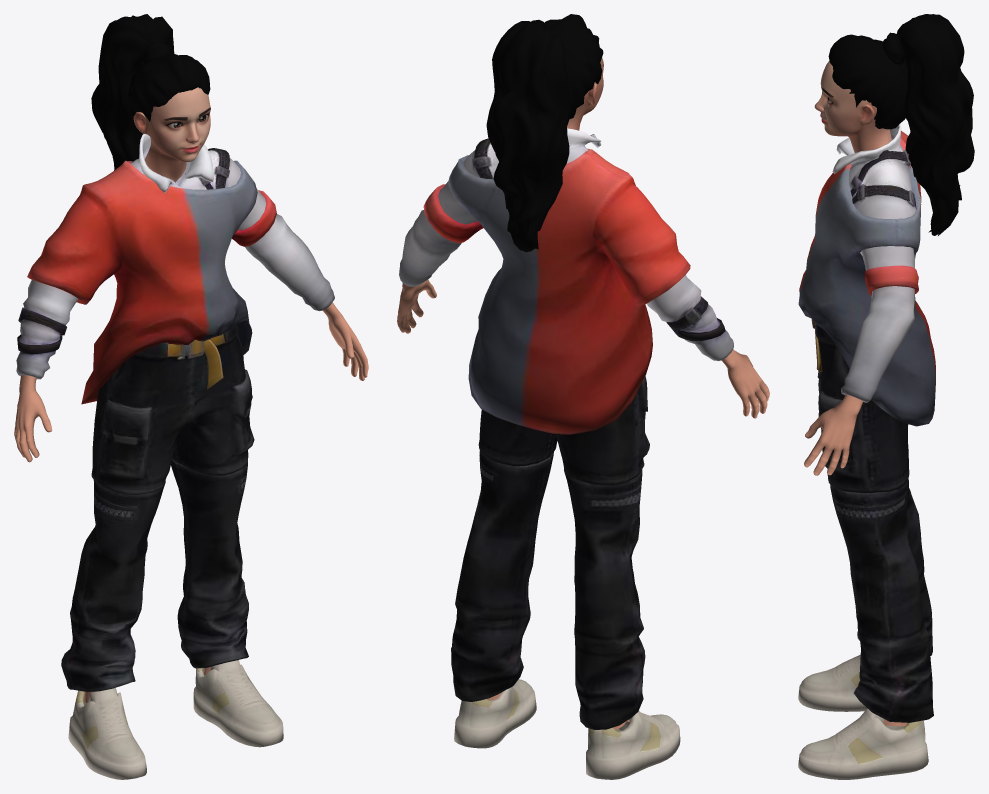
3 renders of one model, left to right at view 1: azimuth 30°, elevation 25°; view 2: azimuth 150°, elevation 25°; view 3: azimuth 270°, elevation 25°, orthographic. The views are drawn at different scales.
Visible parts, largest first — view 1: Wolf3D_Outfit_Bottom, Wolf3D_Outfit_Top, Wolf3D_Outfit_Footwear, Wolf3D_Hair, Wolf3D_Head, Wolf3D_Body; view 2: Wolf3D_Outfit_Top, Wolf3D_Outfit_Bottom, Wolf3D_Hair, Wolf3D_Outfit_Footwear, Wolf3D_Body, Wolf3D_Head; view 3: Wolf3D_Outfit_Top, Wolf3D_Outfit_Bottom, Wolf3D_Hair, Wolf3D_Outfit_Footwear, Wolf3D_Head, Wolf3D_Body.
Boxes of the visible parts, x1,y1,x2,y2 form: Wolf3D_Outfit_Bottom: [61, 324, 254, 691]; Wolf3D_Outfit_Top: [16, 134, 334, 404]; Wolf3D_Outfit_Footwear: [68, 660, 283, 779]; Wolf3D_Hair: [91, 14, 210, 170]; Wolf3D_Head: [133, 87, 210, 182]; Wolf3D_Body: [14, 302, 368, 703]; Wolf3D_Outfit_Top: [399, 128, 733, 434]; Wolf3D_Outfit_Bottom: [451, 376, 649, 729]; Wolf3D_Hair: [486, 14, 603, 252]; Wolf3D_Outfit_Footwear: [454, 679, 680, 779]; Wolf3D_Body: [397, 279, 769, 730]; Wolf3D_Head: [567, 57, 603, 130]; Wolf3D_Outfit_Top: [798, 124, 935, 426]; Wolf3D_Outfit_Bottom: [811, 319, 933, 722]; Wolf3D_Hair: [828, 14, 974, 235]; Wolf3D_Outfit_Footwear: [798, 654, 928, 779]; Wolf3D_Head: [814, 61, 891, 152]; Wolf3D_Body: [804, 394, 907, 726].
Size of the model in its own units: 0.9283 by 1.82 by 0.4052.
9 materials, 9 textured.
